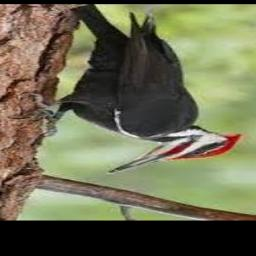Woodpecker: (18, 5, 242, 174)
